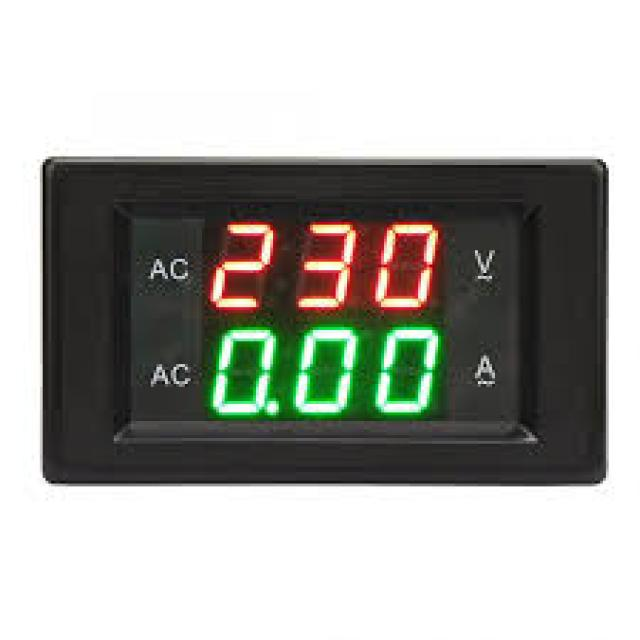.: (262, 397, 283, 418)
0: (200, 326, 286, 418), (374, 217, 447, 317), (377, 324, 451, 421), (296, 327, 366, 422)
2: (194, 214, 289, 319)
3: (297, 216, 366, 318)
screen: (130, 219, 517, 422)
